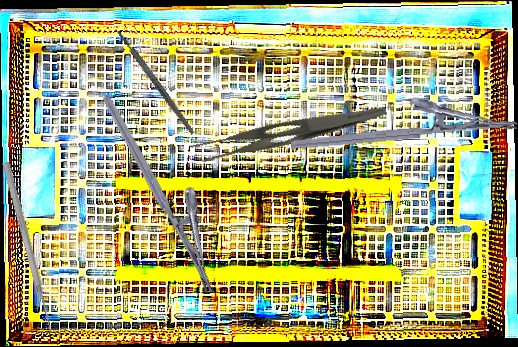Dressing Forceps: (188, 84, 388, 174)
Needle Holder: (100, 78, 242, 297), (287, 88, 518, 151)
Pusher: (0, 161, 56, 332)
Scalpel Handle: (115, 29, 196, 136)
